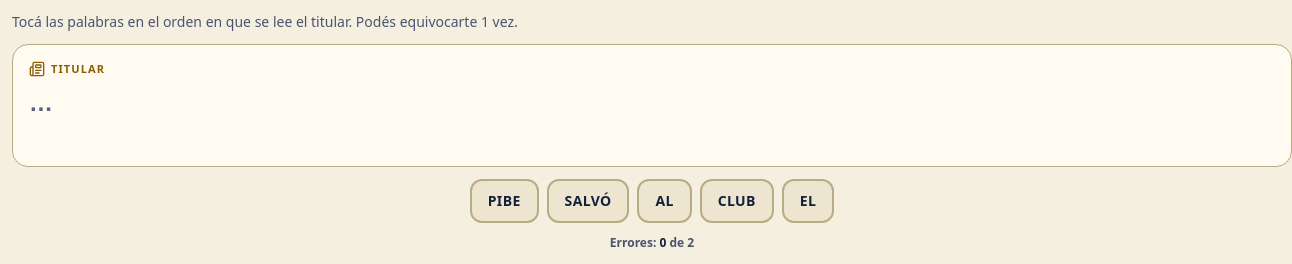
Test: armá el titular (dirigencia y prensa) › tocando las palabras en orden se arma el titular y se gana
This screenshot has width=1292, height=264.
Click the button "EL": (808, 200) left=782, top=178, right=834, bottom=222
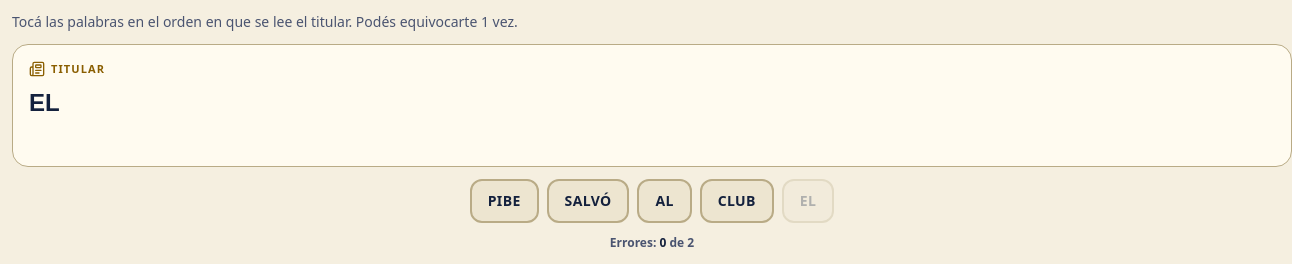
Click the button "PIBE": (504, 200) left=470, top=178, right=539, bottom=222
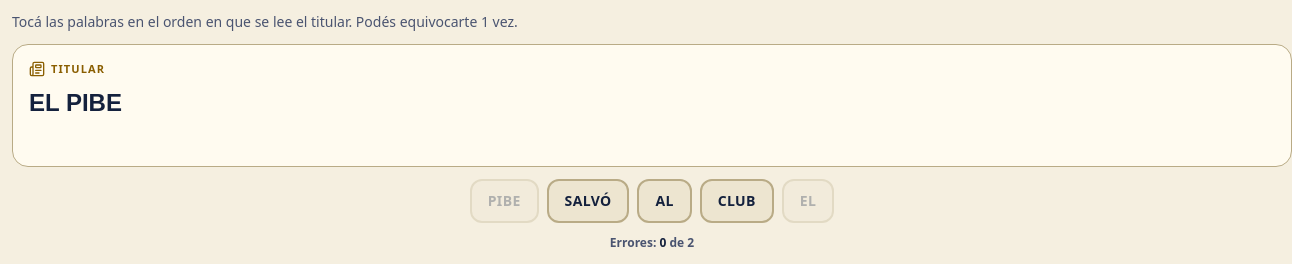
Click the button "SALVÓ": (588, 200) left=547, top=178, right=630, bottom=222
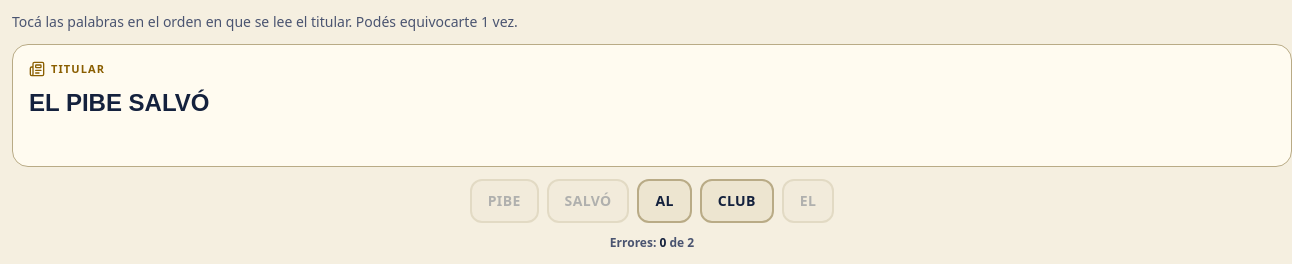
Click the button "AL": (665, 200) left=638, top=178, right=692, bottom=222
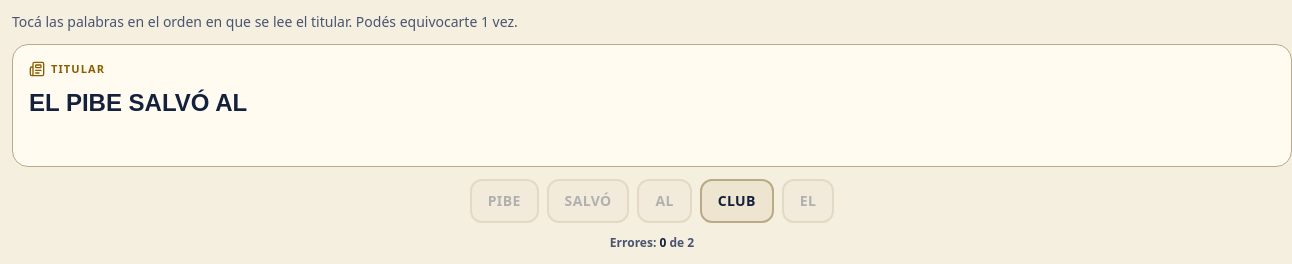
Click the button "CLUB": (737, 200) left=700, top=178, right=774, bottom=222
Wait 800 ms
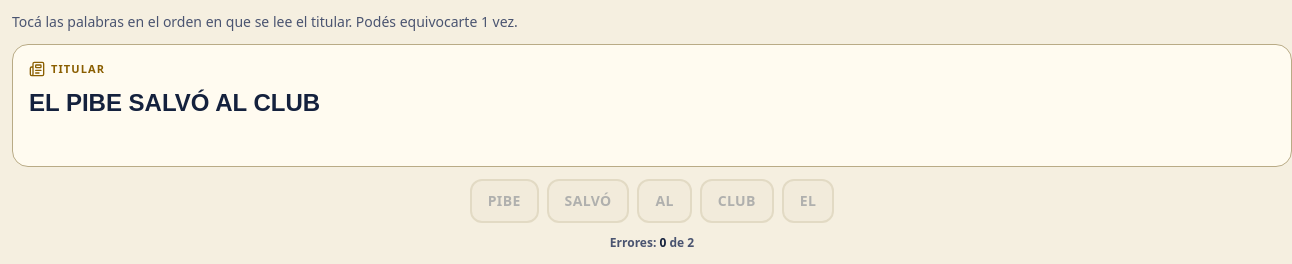
Now the text "EL PIBE SALVÓ AL CLUB" is shown, box left=29, top=88, right=320, bottom=116
